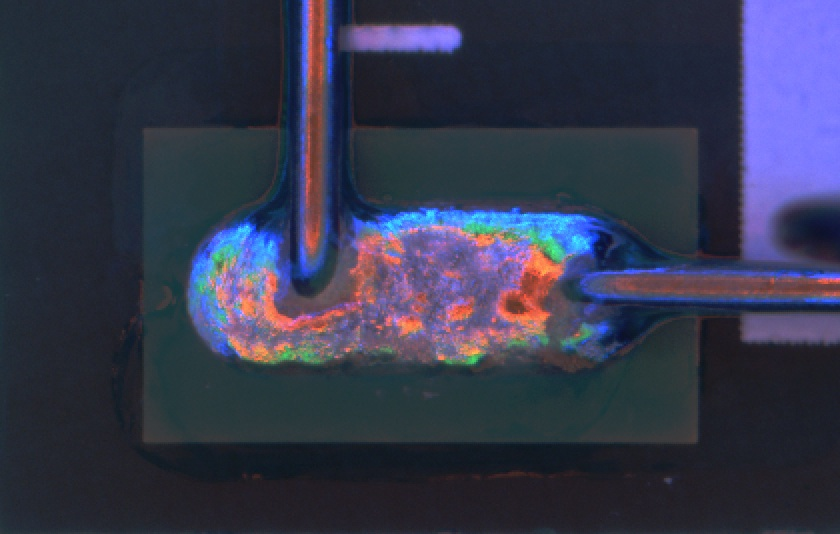spring: (278, 1, 350, 301), (554, 258, 840, 322)
spring_pin: (184, 198, 654, 367)
